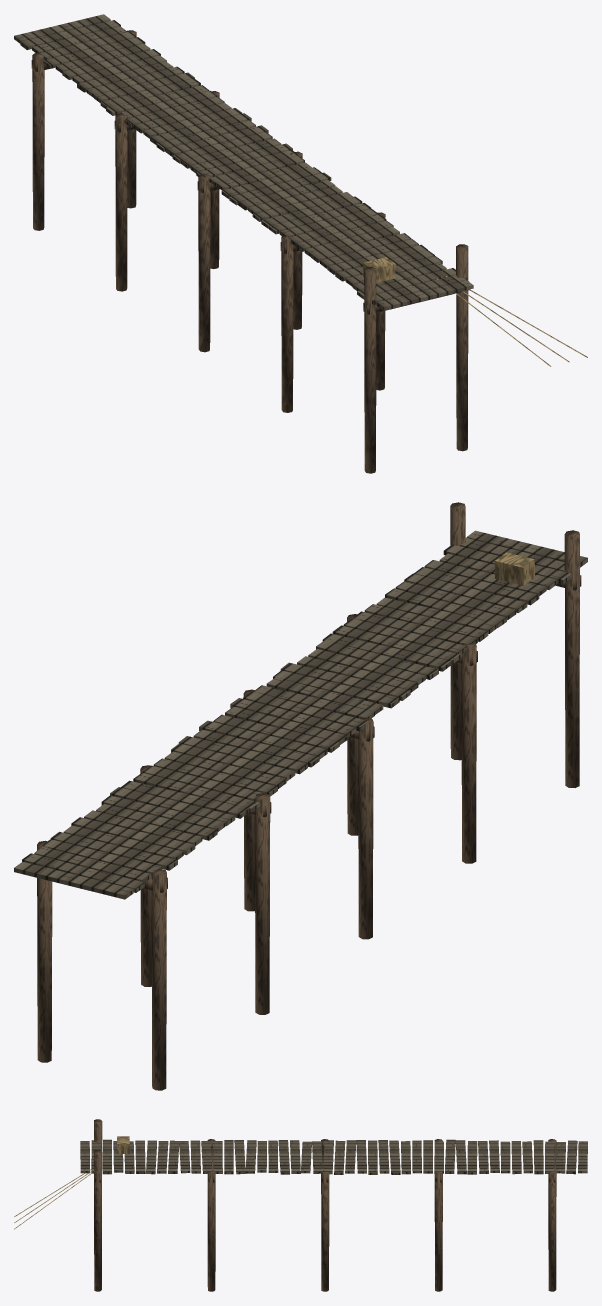
Rendered from fishing_jetty.glb.
3 renders of one model, top to bottom at view 1: azimuth 30°, elevation 25°; view 2: azimuth 150°, elevation 25°; view 3: azimuth 270°, elevation 25°, orthographic. The views are drawn at different scales.
Parts seen in each view (by area): view 1: JettyDeck, JettyPiles, FishingGear; view 2: JettyDeck, JettyPiles, FishingGear; view 3: JettyDeck, JettyPiles, FishingGear.
Boxes of the visible parts, x1,y1,x2,y2 form: JettyDeck: [14, 14, 473, 310]; JettyPiles: [31, 30, 469, 473]; FishingGear: [363, 257, 587, 366]; JettyDeck: [14, 530, 587, 899]; JettyPiles: [36, 502, 581, 1090]; FishingGear: [472, 547, 534, 585]; JettyDeck: [80, 1139, 587, 1174]; JettyPiles: [94, 1119, 556, 1291]; FishingGear: [14, 1136, 129, 1229].
Size of what is drawn, in the model's own units: 3.53 by 4.2 by 15.79.
3 materials, 3 textured.
